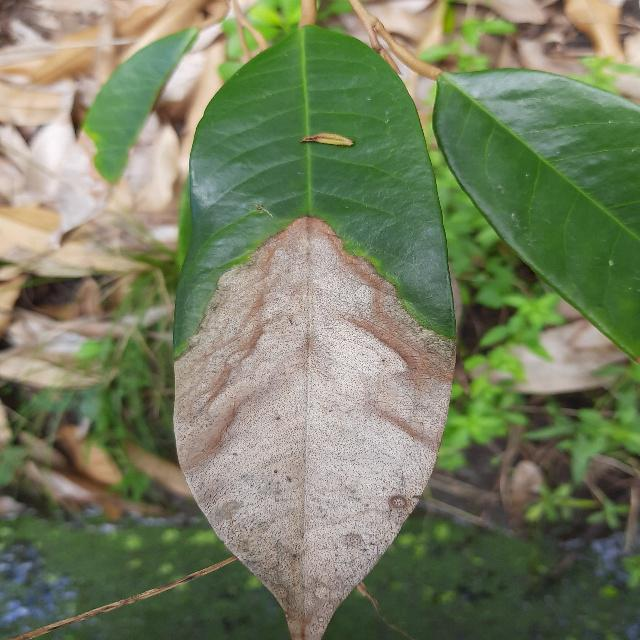Leaf Blight: (164, 17, 466, 639)
